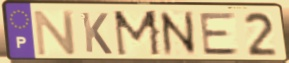2: (242, 11, 279, 58)
E: (197, 11, 242, 57)
K: (79, 11, 114, 56)
M: (111, 9, 164, 58)
N: (32, 9, 79, 58), (156, 9, 201, 59)
